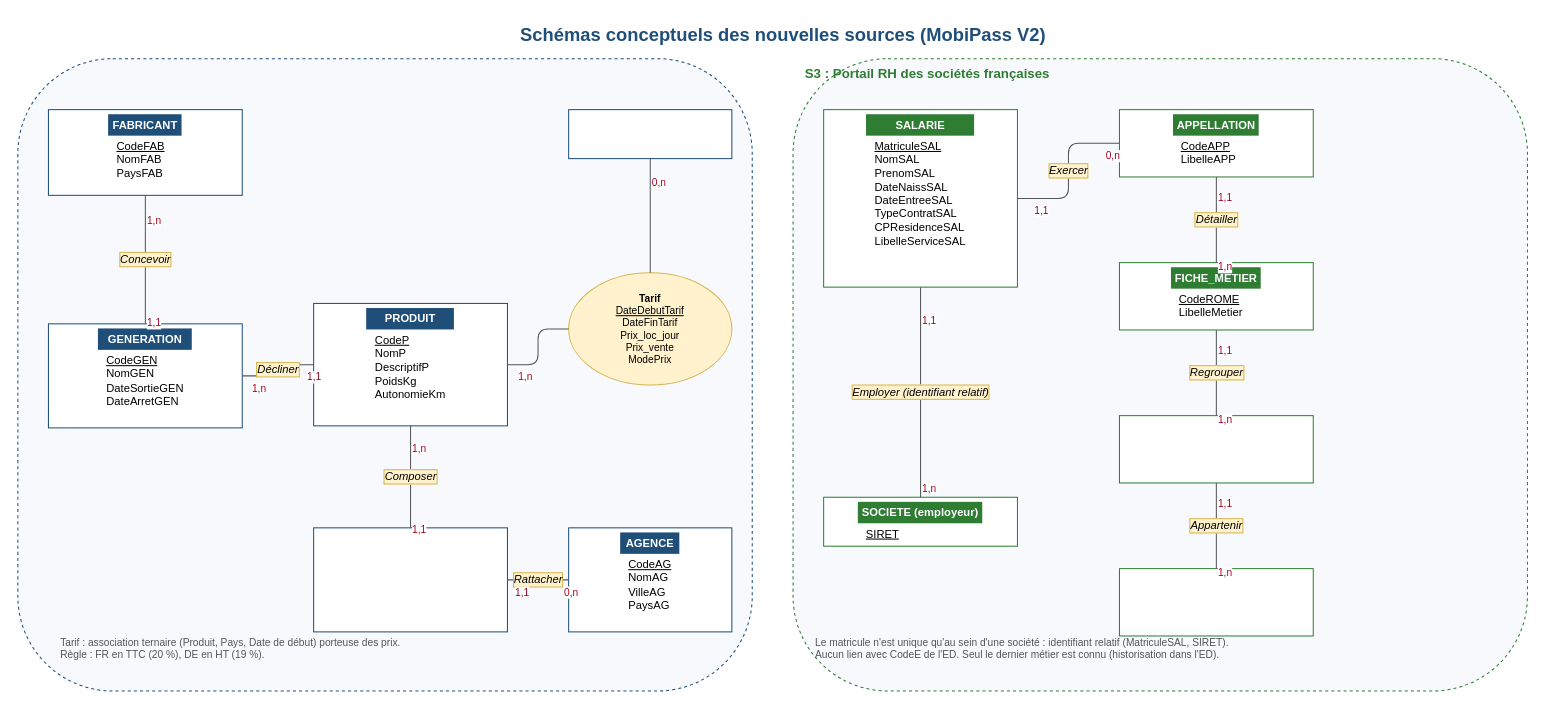
Some shapes in this 1566 by 709 pixel diagram are drawn without their labels. Here are the shapes that lost their labels. From the top down, the box of each, then its label:
(568, 109, 732, 159): PAYS PaysTarif
(17, 58, 752, 691): S2 : BD de production MobiPass (catalogue et parc)
(1118, 415, 1313, 483): DOMAINE_PRO CodeDP LibelleDP
(313, 527, 507, 632): EXEMPLAIRE CodeEX NumSerieEX DateMiseServiceEX DateReformeEX
(1118, 568, 1313, 636): GRAND_DOMAINE CodeGD LibelleGD
